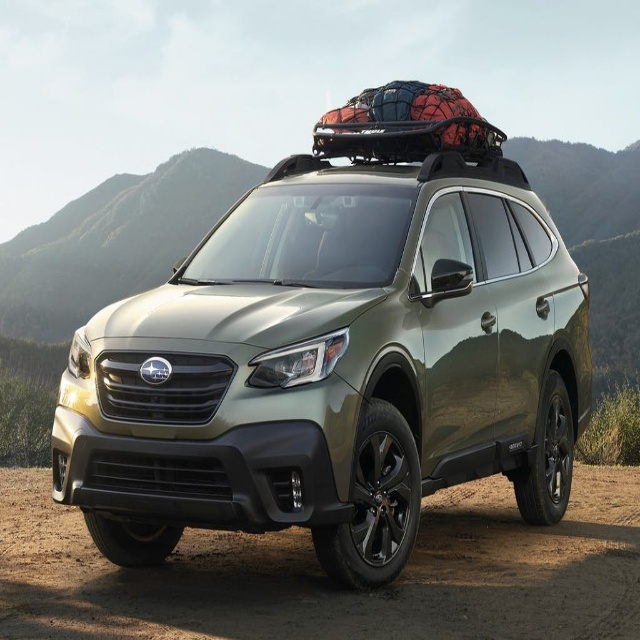Car: (51, 163, 592, 592)
